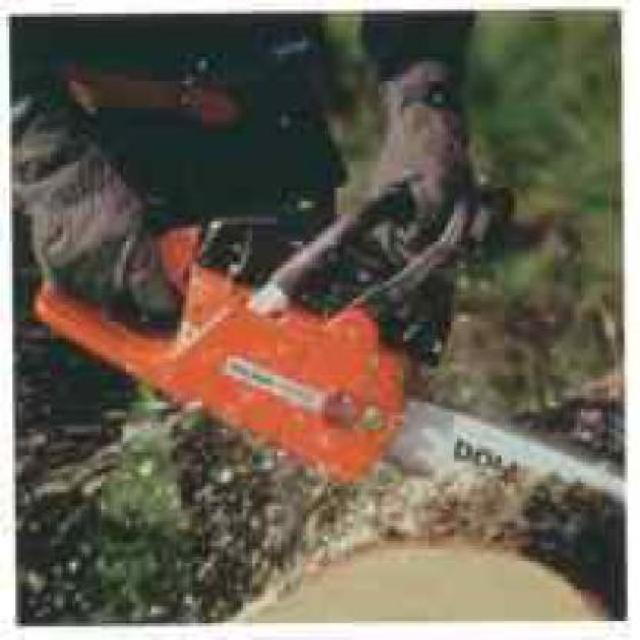Chainsaw: (34, 188, 628, 502)
